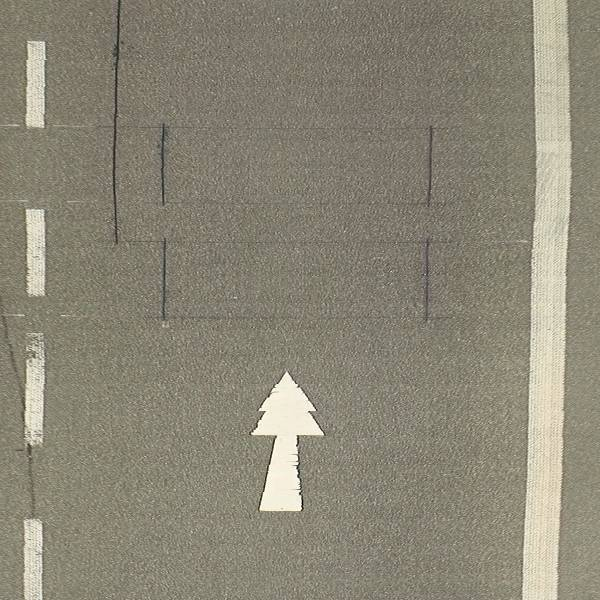road_damage: (150, 233, 441, 329), (154, 119, 444, 214)
